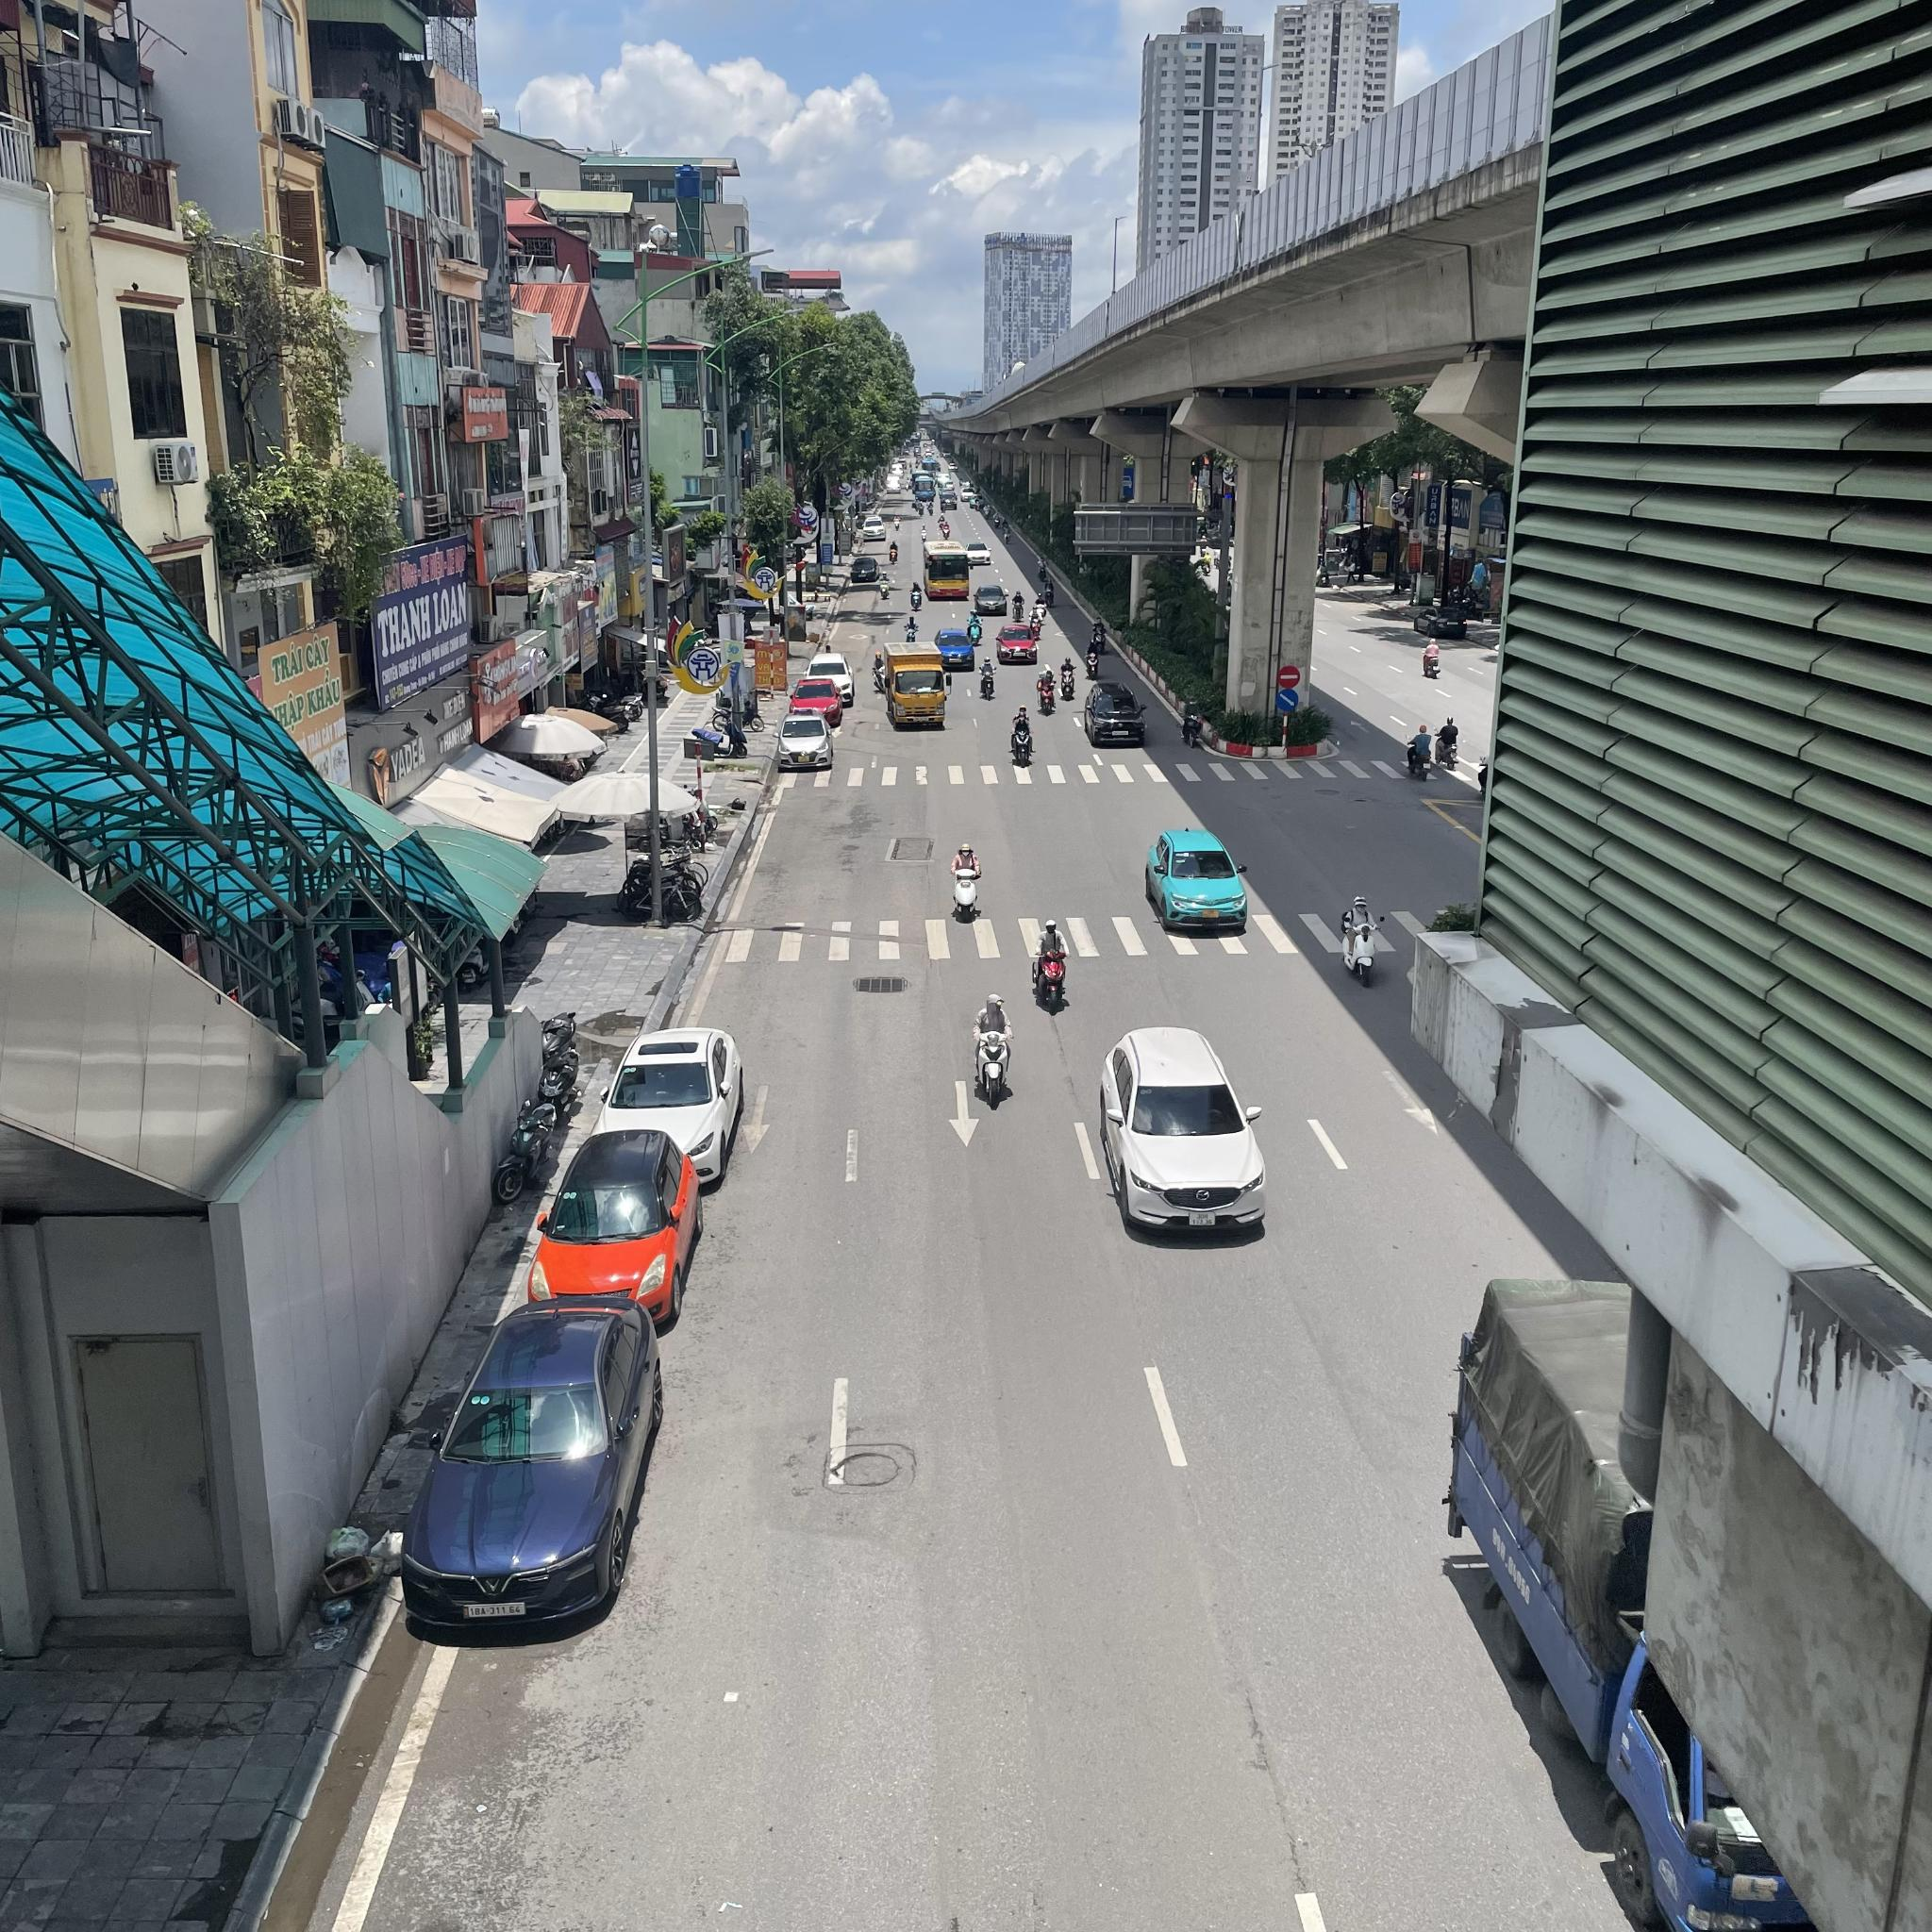car: (403, 1298, 660, 1635), (1102, 1020, 1276, 1257), (535, 1129, 704, 1316), (606, 1024, 747, 1190), (1143, 828, 1251, 941), (890, 647, 948, 725), (1087, 682, 1148, 747), (779, 712, 832, 771), (924, 542, 968, 597), (792, 678, 844, 724), (808, 654, 854, 706), (995, 624, 1040, 665), (974, 585, 1011, 612), (965, 541, 994, 563)
motobike: (1341, 895, 1394, 991), (971, 991, 1013, 1103), (1029, 914, 1074, 1013), (949, 841, 988, 934), (1180, 691, 1207, 746), (1011, 705, 1032, 769), (1037, 665, 1062, 717), (979, 658, 997, 697), (1093, 620, 1113, 653), (966, 608, 984, 642), (1061, 658, 1074, 700), (876, 571, 893, 600), (1042, 577, 1058, 608), (905, 614, 918, 642), (1087, 640, 1097, 675), (1013, 590, 1024, 621), (1031, 605, 1041, 636), (887, 539, 900, 561), (911, 582, 922, 609), (1035, 557, 1049, 575)
